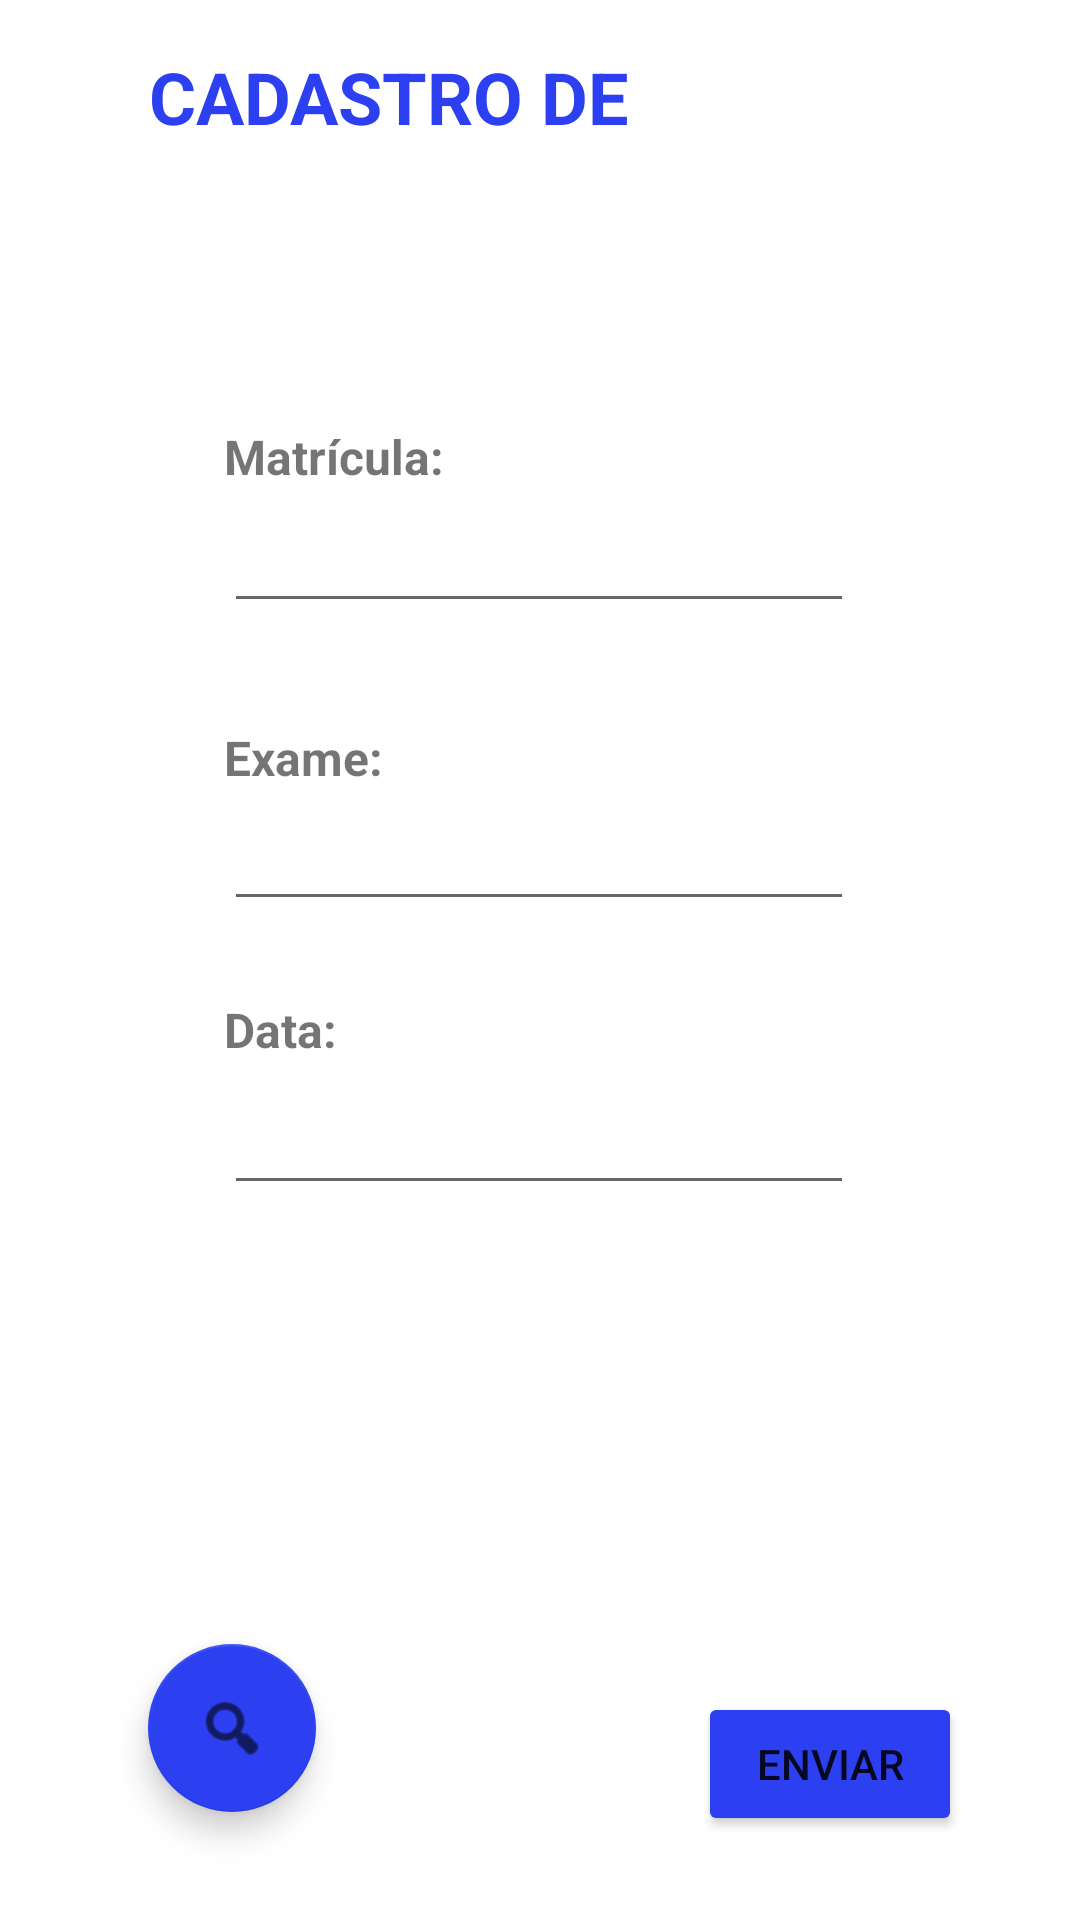

Point at icon controls on the screen. Image size 1080w x 1920h, points as [x,y].
search: [232,1728]
